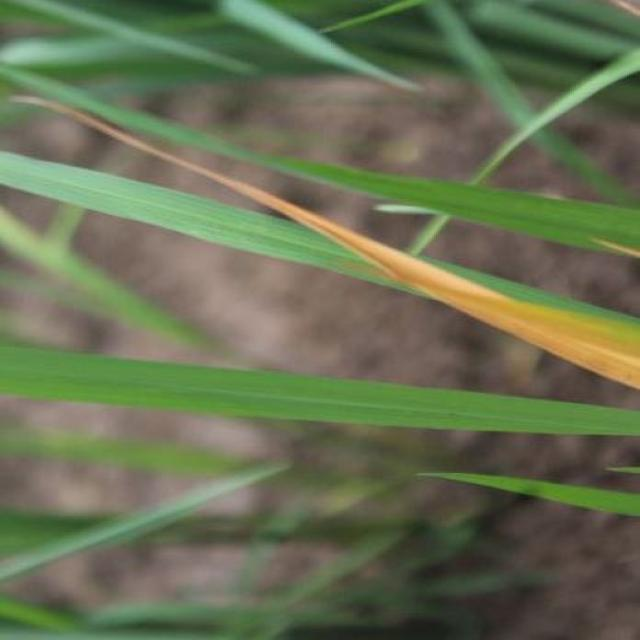Tungro: (191, 154, 640, 394)
